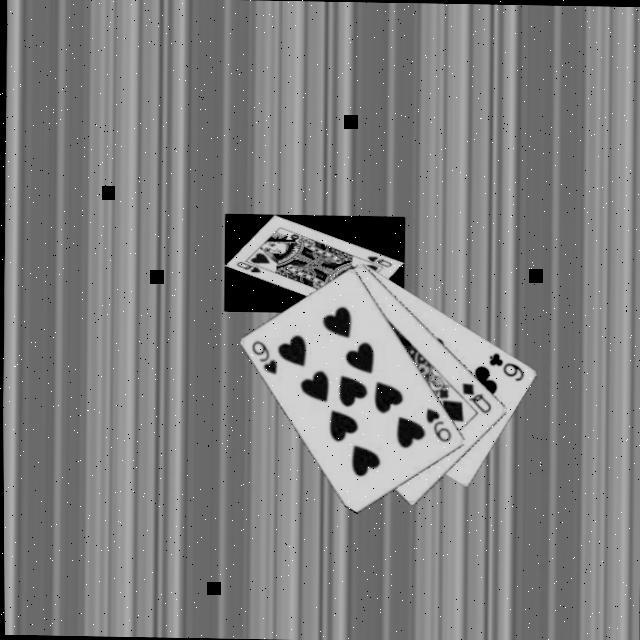6C: (482, 347, 525, 382)
9H: (419, 402, 452, 443), (245, 335, 278, 376)
QD: (455, 377, 492, 415)
